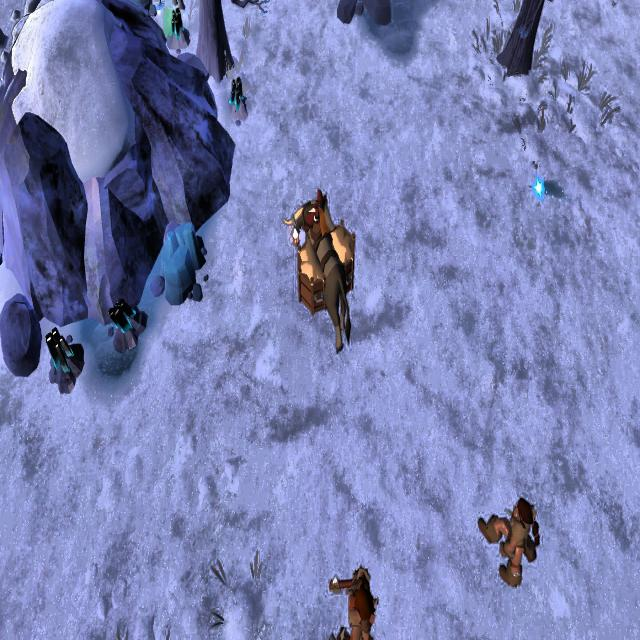enemy_factionKeeper: (484, 484, 542, 582), (330, 567, 379, 640)
ore_t4: (43, 324, 75, 374), (106, 297, 135, 332), (168, 8, 186, 42), (228, 74, 244, 111)
rock_t4: (148, 219, 204, 312)
